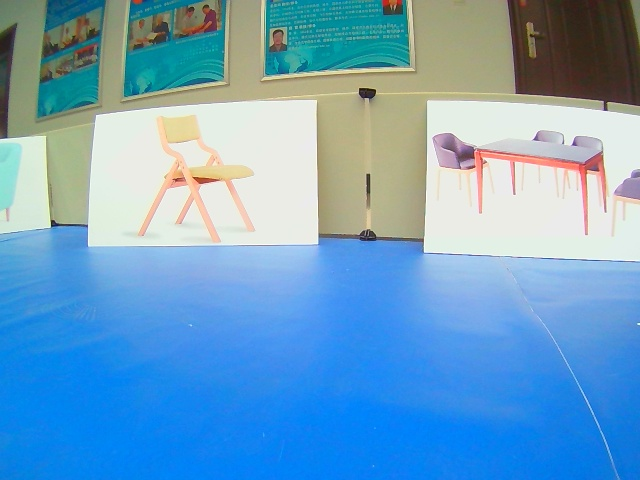table: (424, 98, 640, 263), (87, 100, 319, 245)
